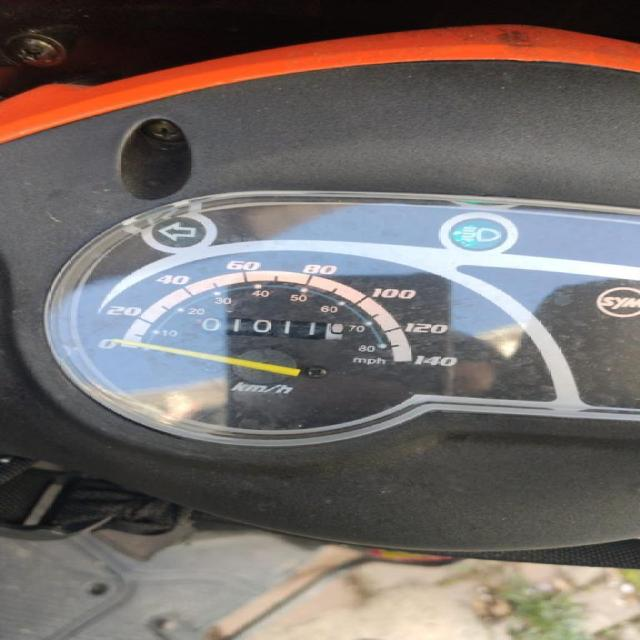odometer: (186, 314, 346, 342)
